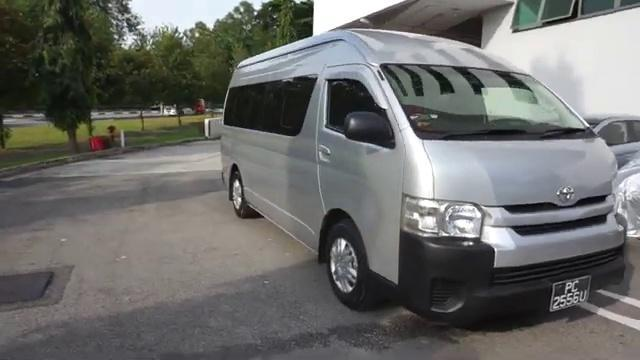Van: (217, 29, 640, 328)
